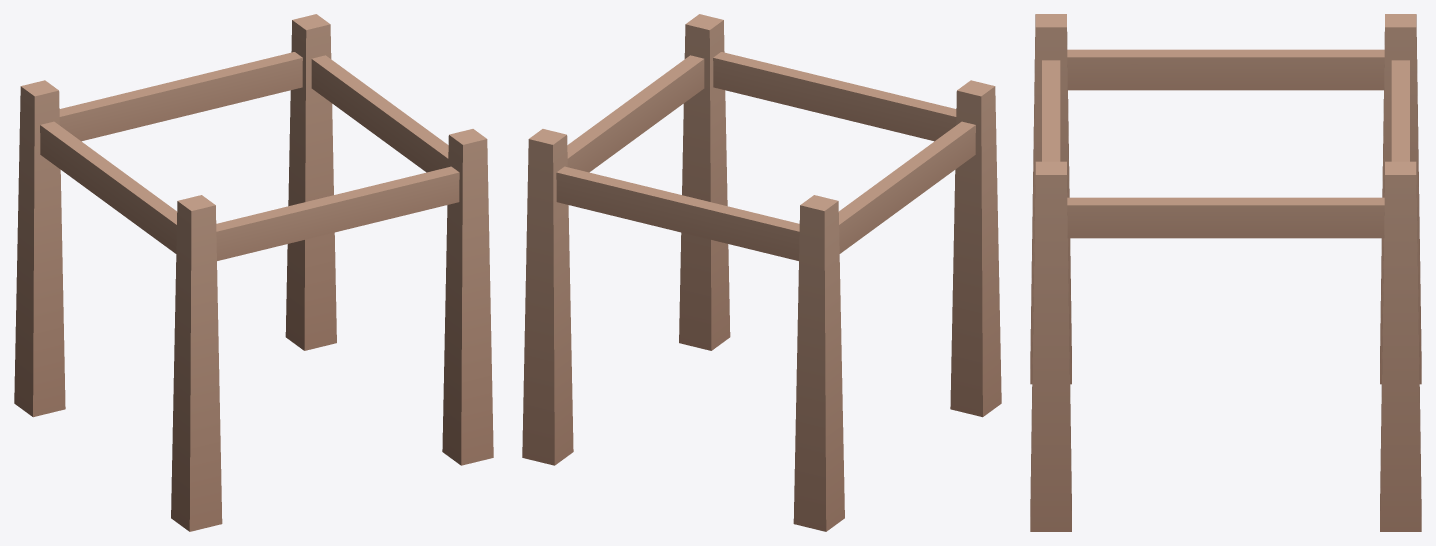
Rendered from structure.glb.
3 renders of one model, left to right at view 1: azimuth 30°, elevation 25°; view 2: azimuth 150°, elevation 25°; view 3: azimuth 270°, elevation 25°, orthographic. The views are drawn at different scales.
Parts seen in each view (by area): view 1: structure; view 2: structure; view 3: structure.
Boxes of the visible parts, bbox=[...] form: structure: bbox=[14, 14, 493, 531]; structure: bbox=[522, 14, 1001, 531]; structure: bbox=[1030, 14, 1421, 531].
Size of the model in its own units: 0.5 by 0.5 by 0.5.
